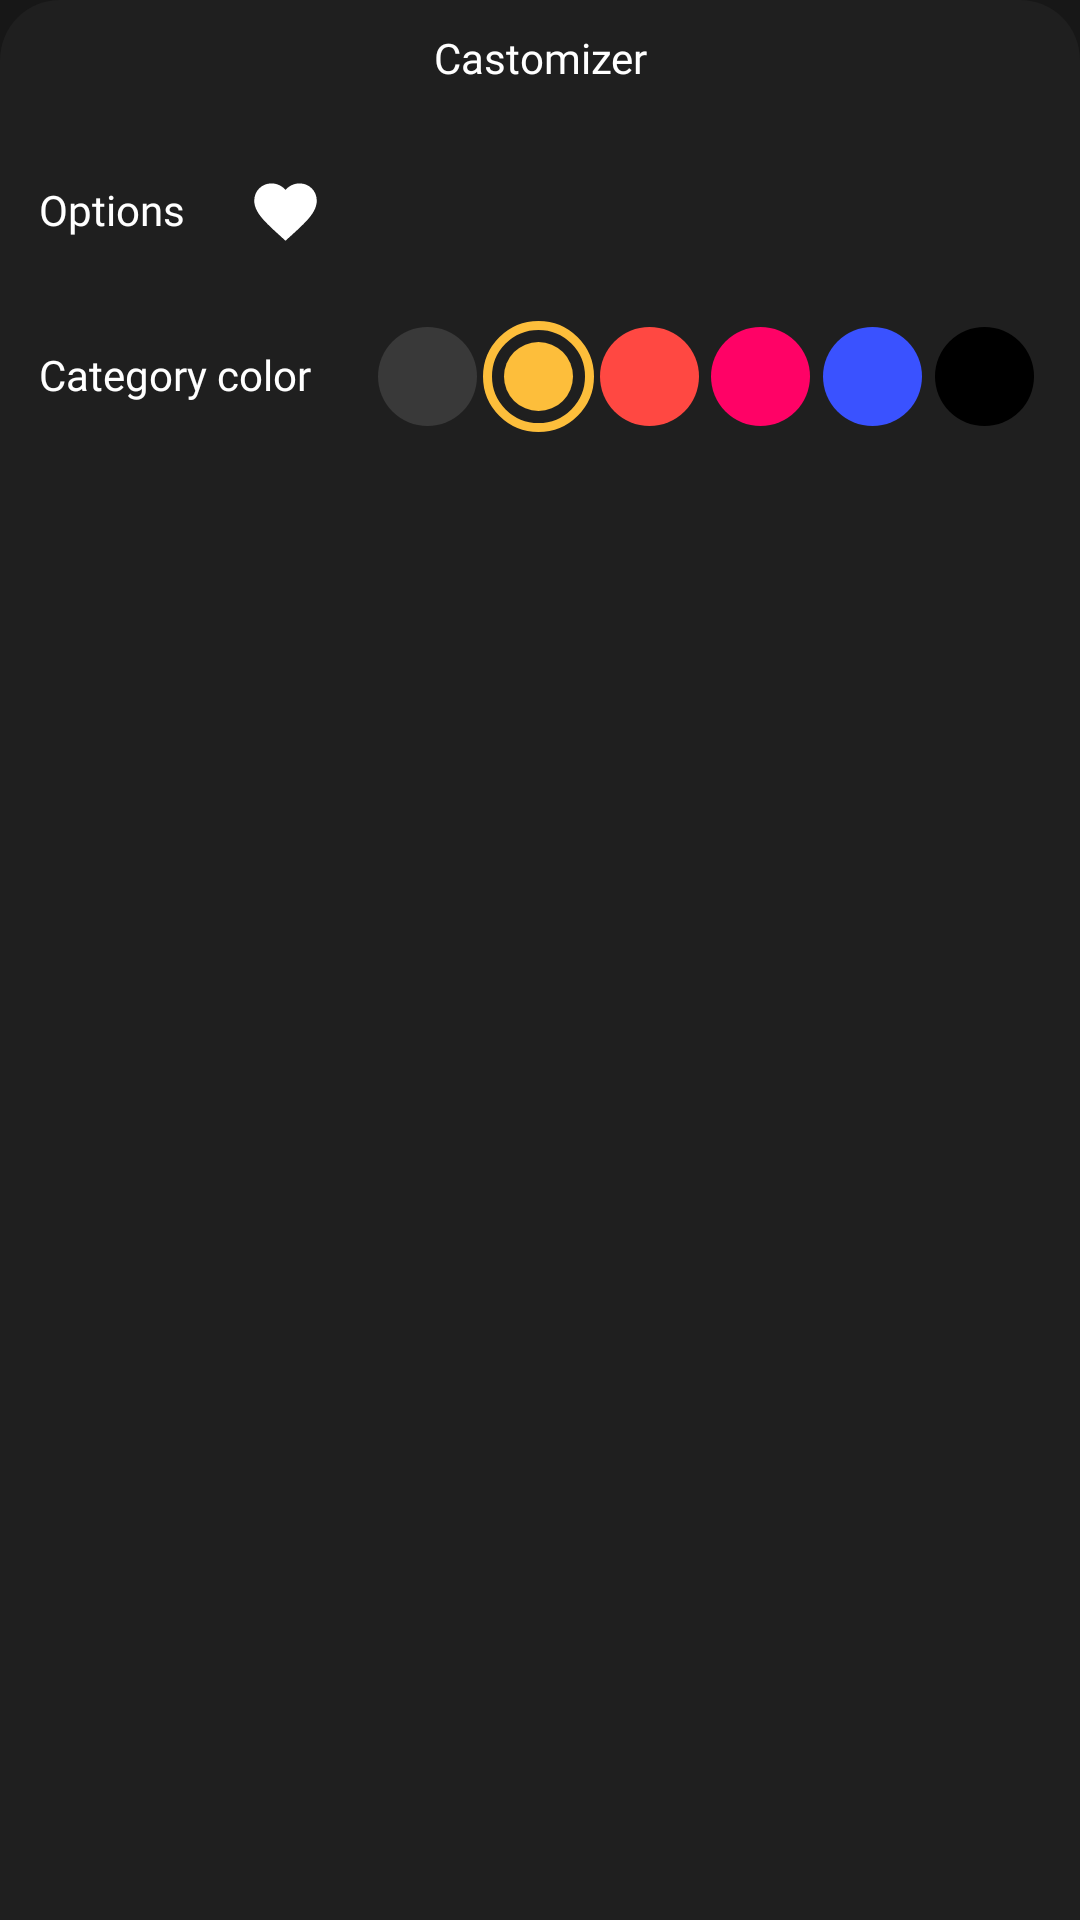

Named icons in this screenshot (1080×1920) and their bounding boxes, (x1=x1, y1=y1, x2=x2, y2=y2):
favorite: (x1=254, y1=183, x2=317, y2=241)
